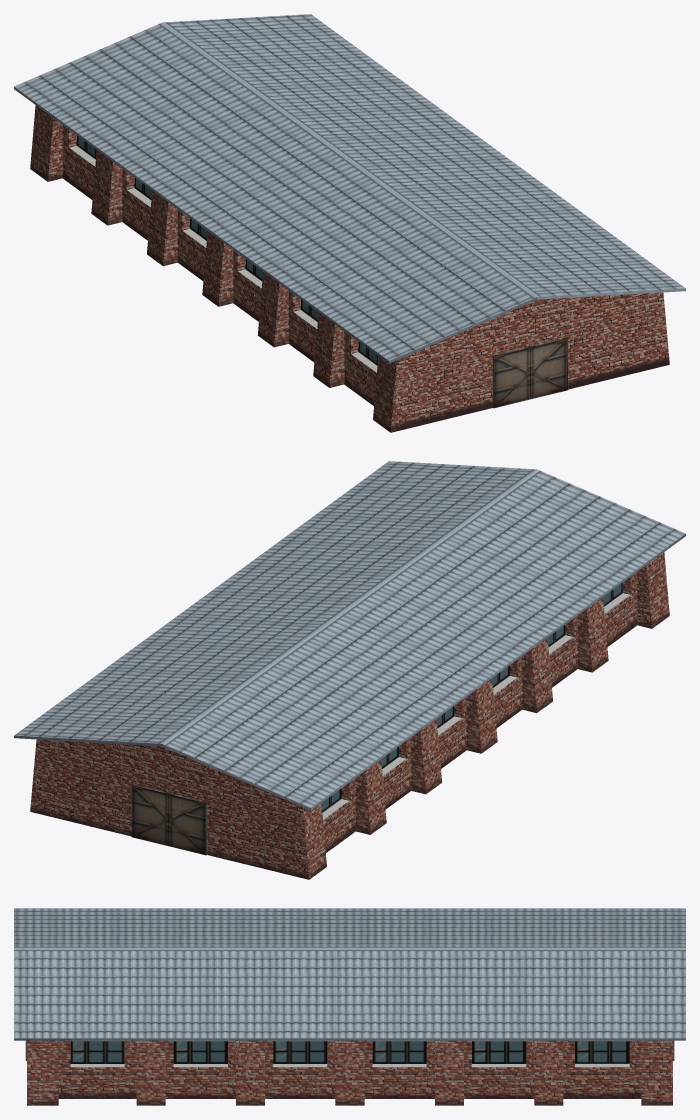
Rendered from Warehouse.fbx.
The picture shows the model from 3 angles, top to bottom: view 1: azimuth 30°, elevation 25°; view 2: azimuth 150°, elevation 25°; view 3: azimuth 270°, elevation 25°; orthographic projection. The views are drawn at different scales.
Parts seen in each view (by area): view 1: Warehouse; view 2: Warehouse; view 3: Warehouse.
Part boxes in pixels (left/top/right/bottom): Warehouse: left=14, top=14, right=685, bottom=432; Warehouse: left=14, top=461, right=685, bottom=879; Warehouse: left=14, top=908, right=685, bottom=1105.
Size of the model in its own units: 2378 by 820 by 5200.
1 material, 1 textured.
